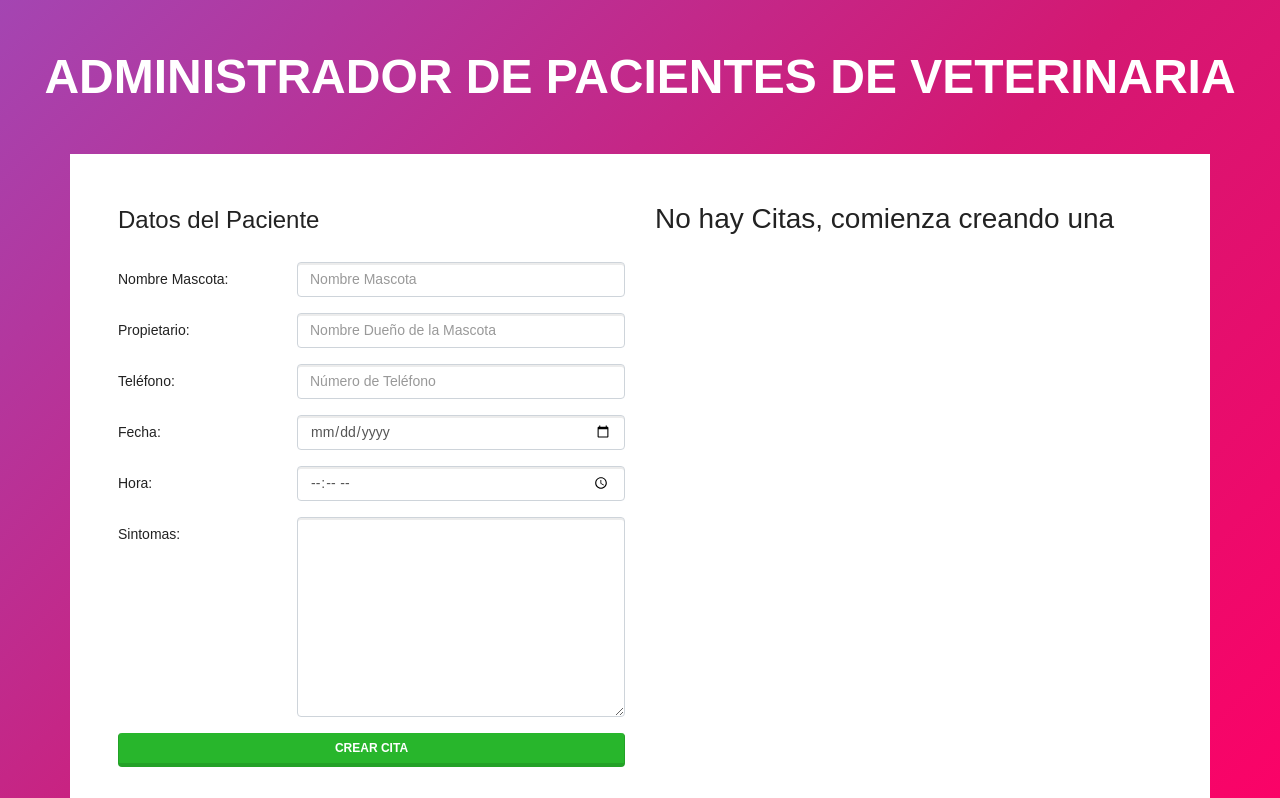
Test: Llena los campos para una nueva cita y la muestra › Campos nueva cita
Type "Hook" into the field with test id "mascota-input". click: (461, 280)
box: [297,262,625,297]
Type "Juan" into the field with test id "propietario-input". click: (461, 331)
box: [297,313,625,348]
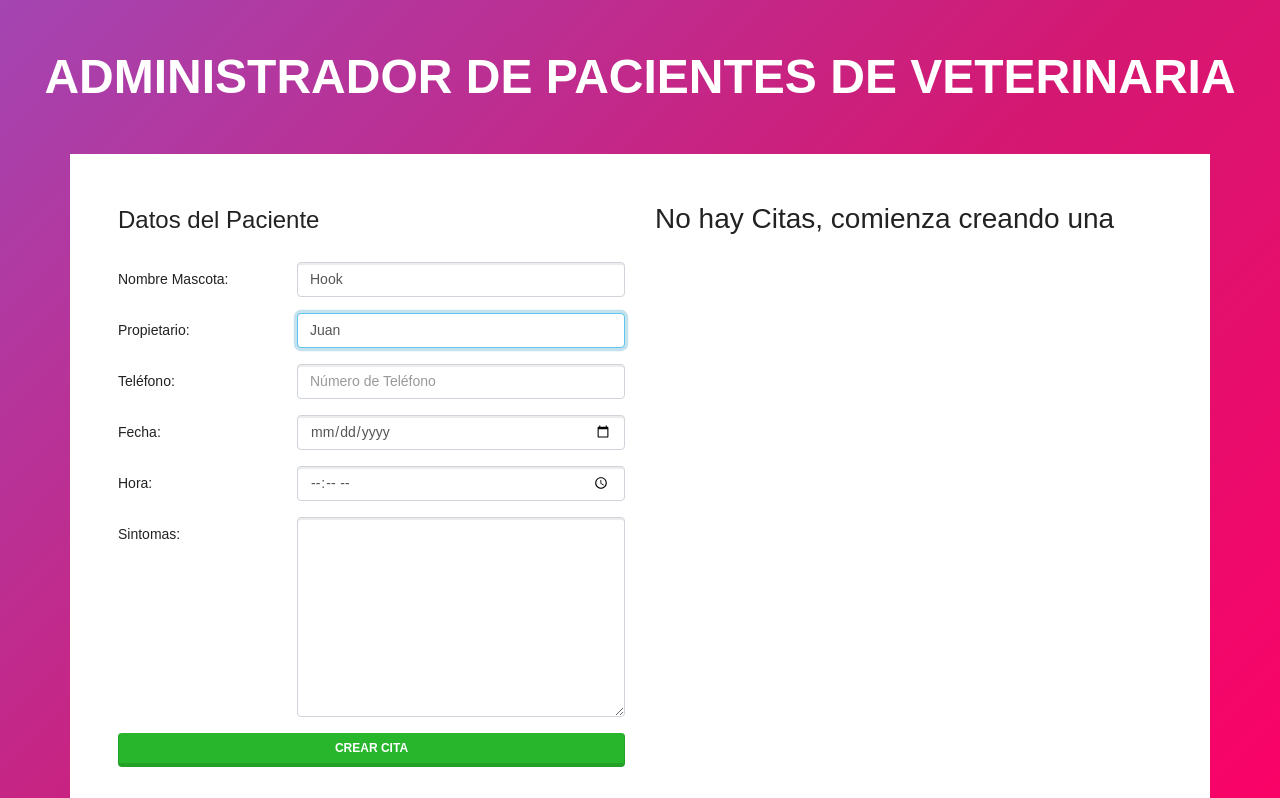
Type "33333" into the field with test id "telefono-input". click: (461, 382)
box: [297,364,625,399]
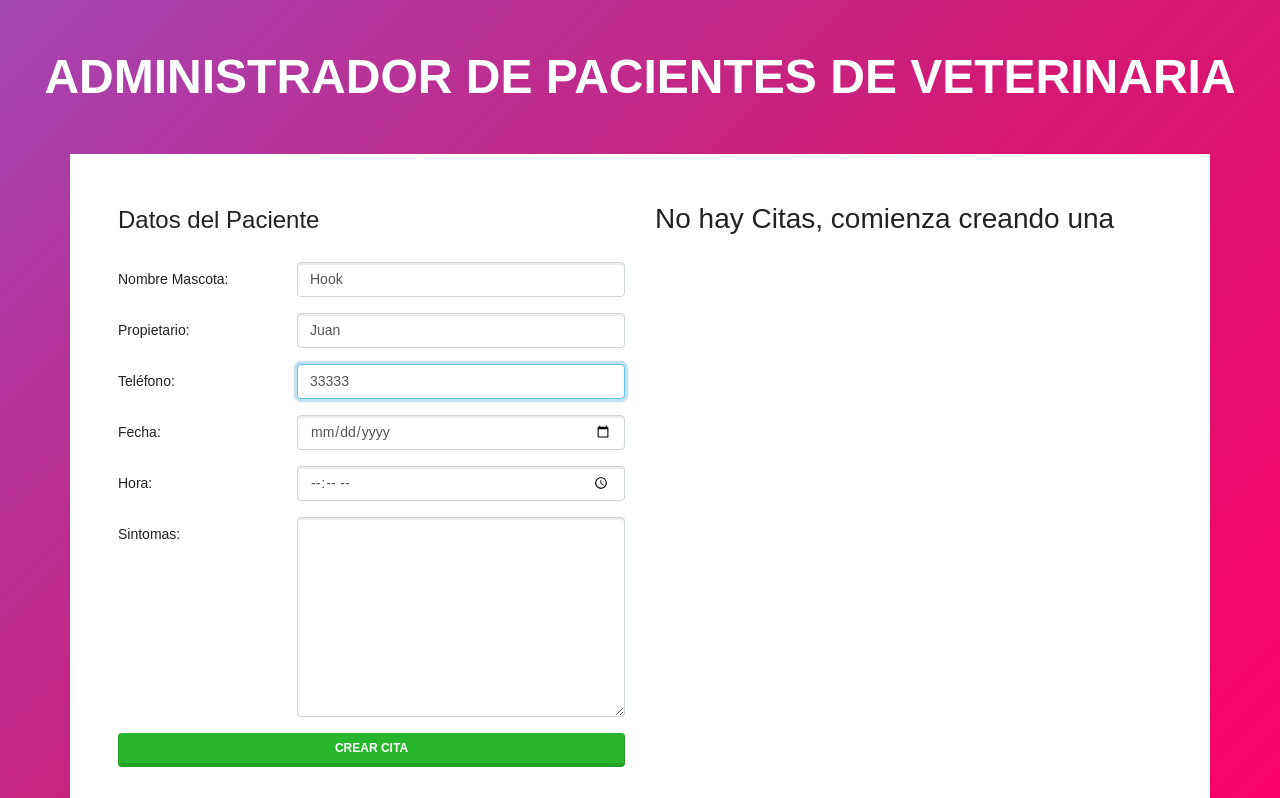
Type "2025-07-15" into the date field with test id "fecha-input". click: (461, 433)
box: [297,415,625,450]
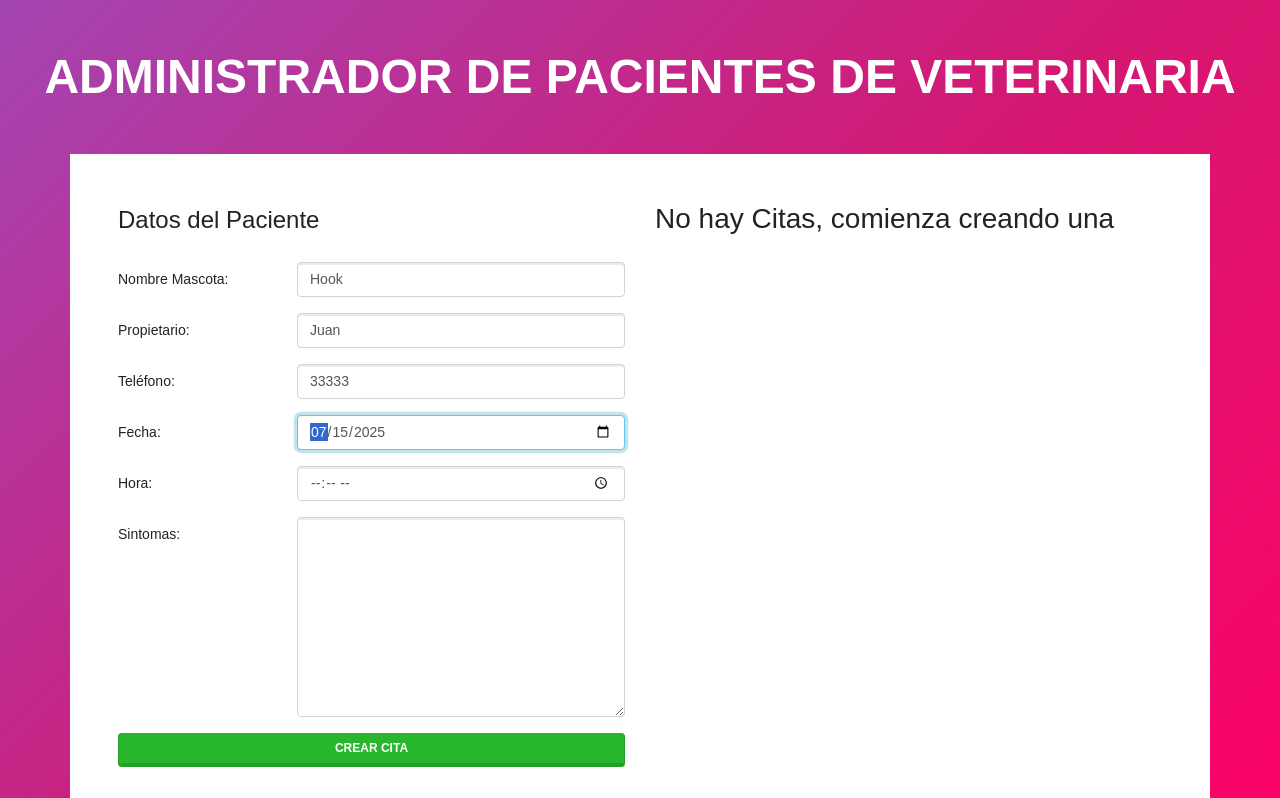
Type "10:30" into the time field with test id "hora-input". click: (461, 484)
box: [297,466,625,501]
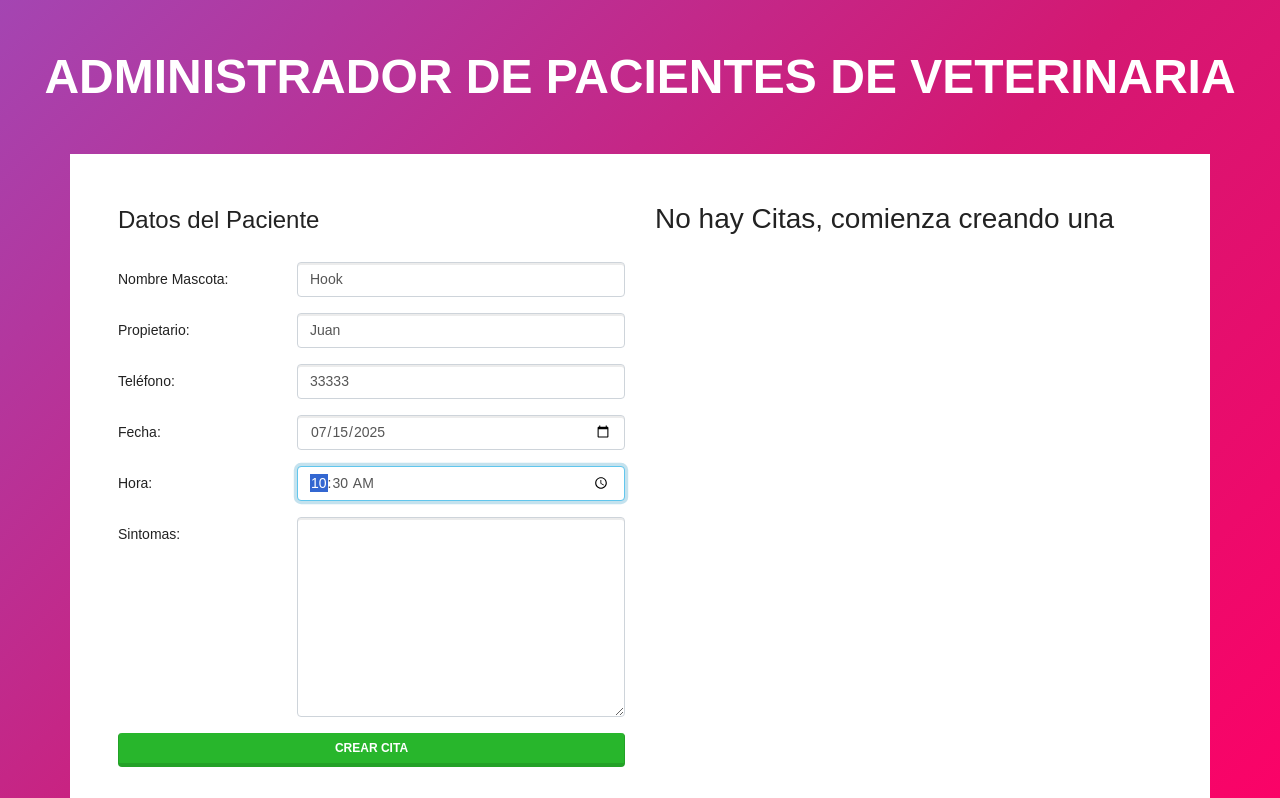
Type "Duerme mucho" into the text box with test id "sintomas-input". click: (461, 617)
box: [297,517,625,717]
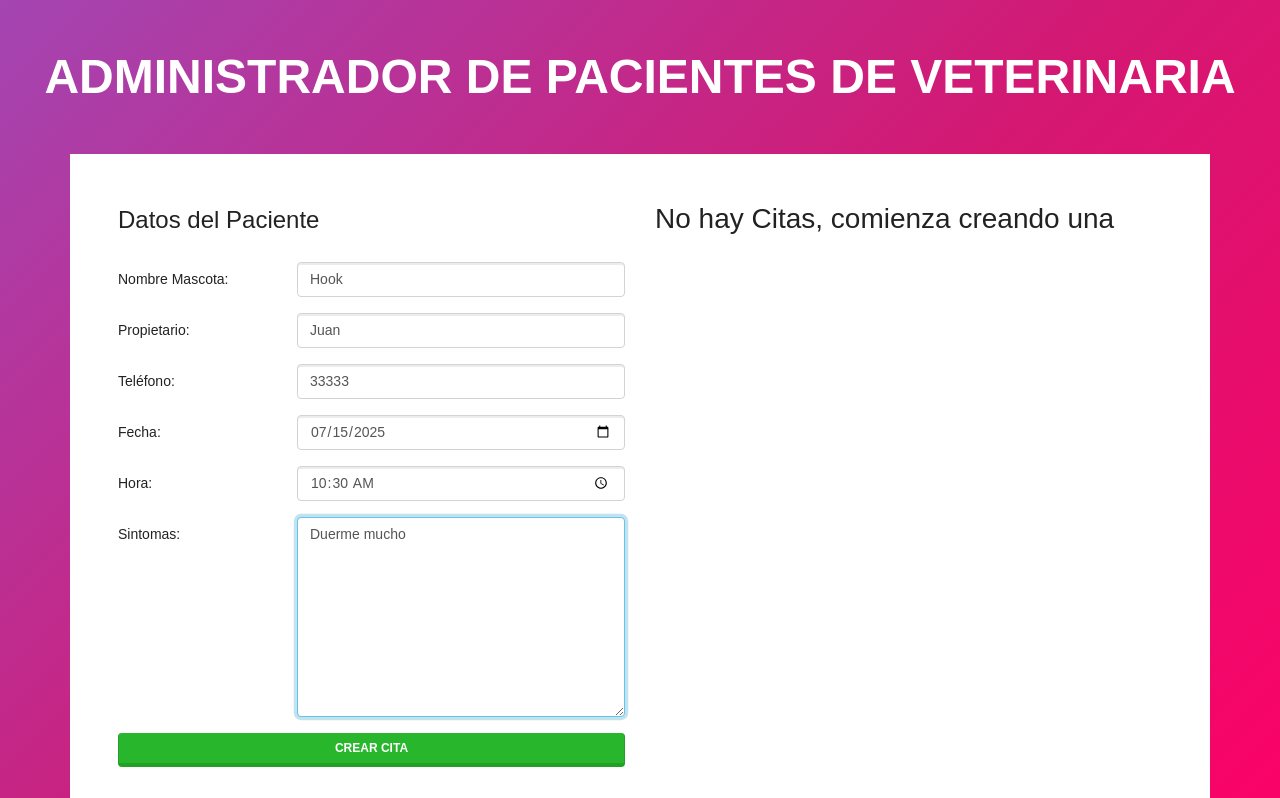
Click the button with test id "submit-cita". click: click(372, 750)
box: [118,733,625,767]
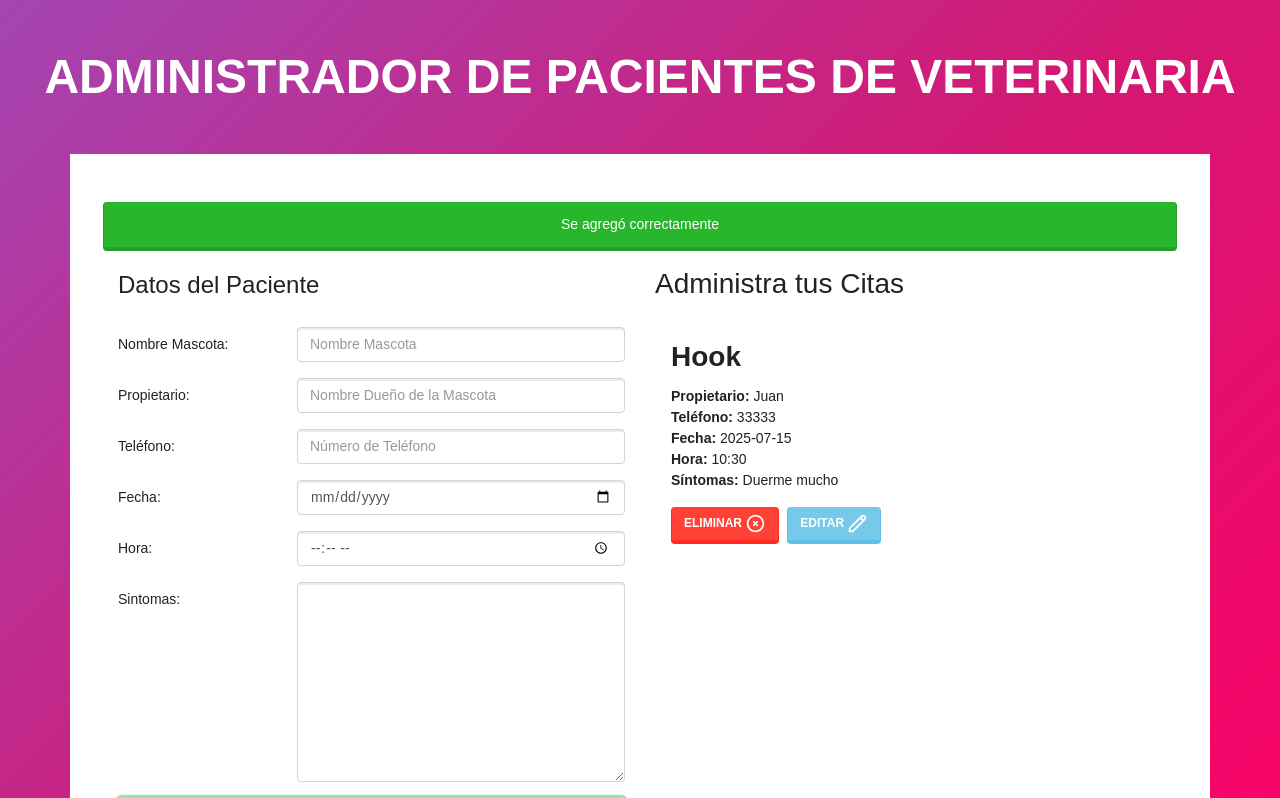
Check: the heading with test id "citas-heading" reads "Administra tus Citas", box [655,268,904,299]
Check: the text with test id "alerta" reads "Se agregó correctamente", box [103,202,1177,251]
